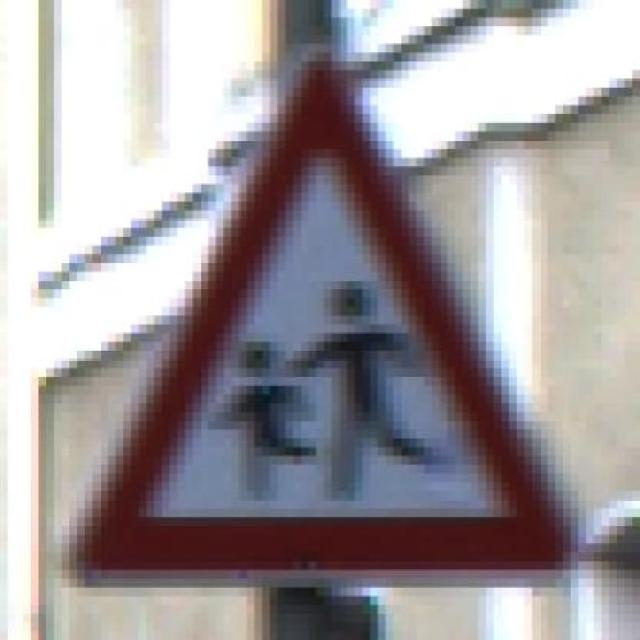Beware of children: (68, 35, 584, 588)
